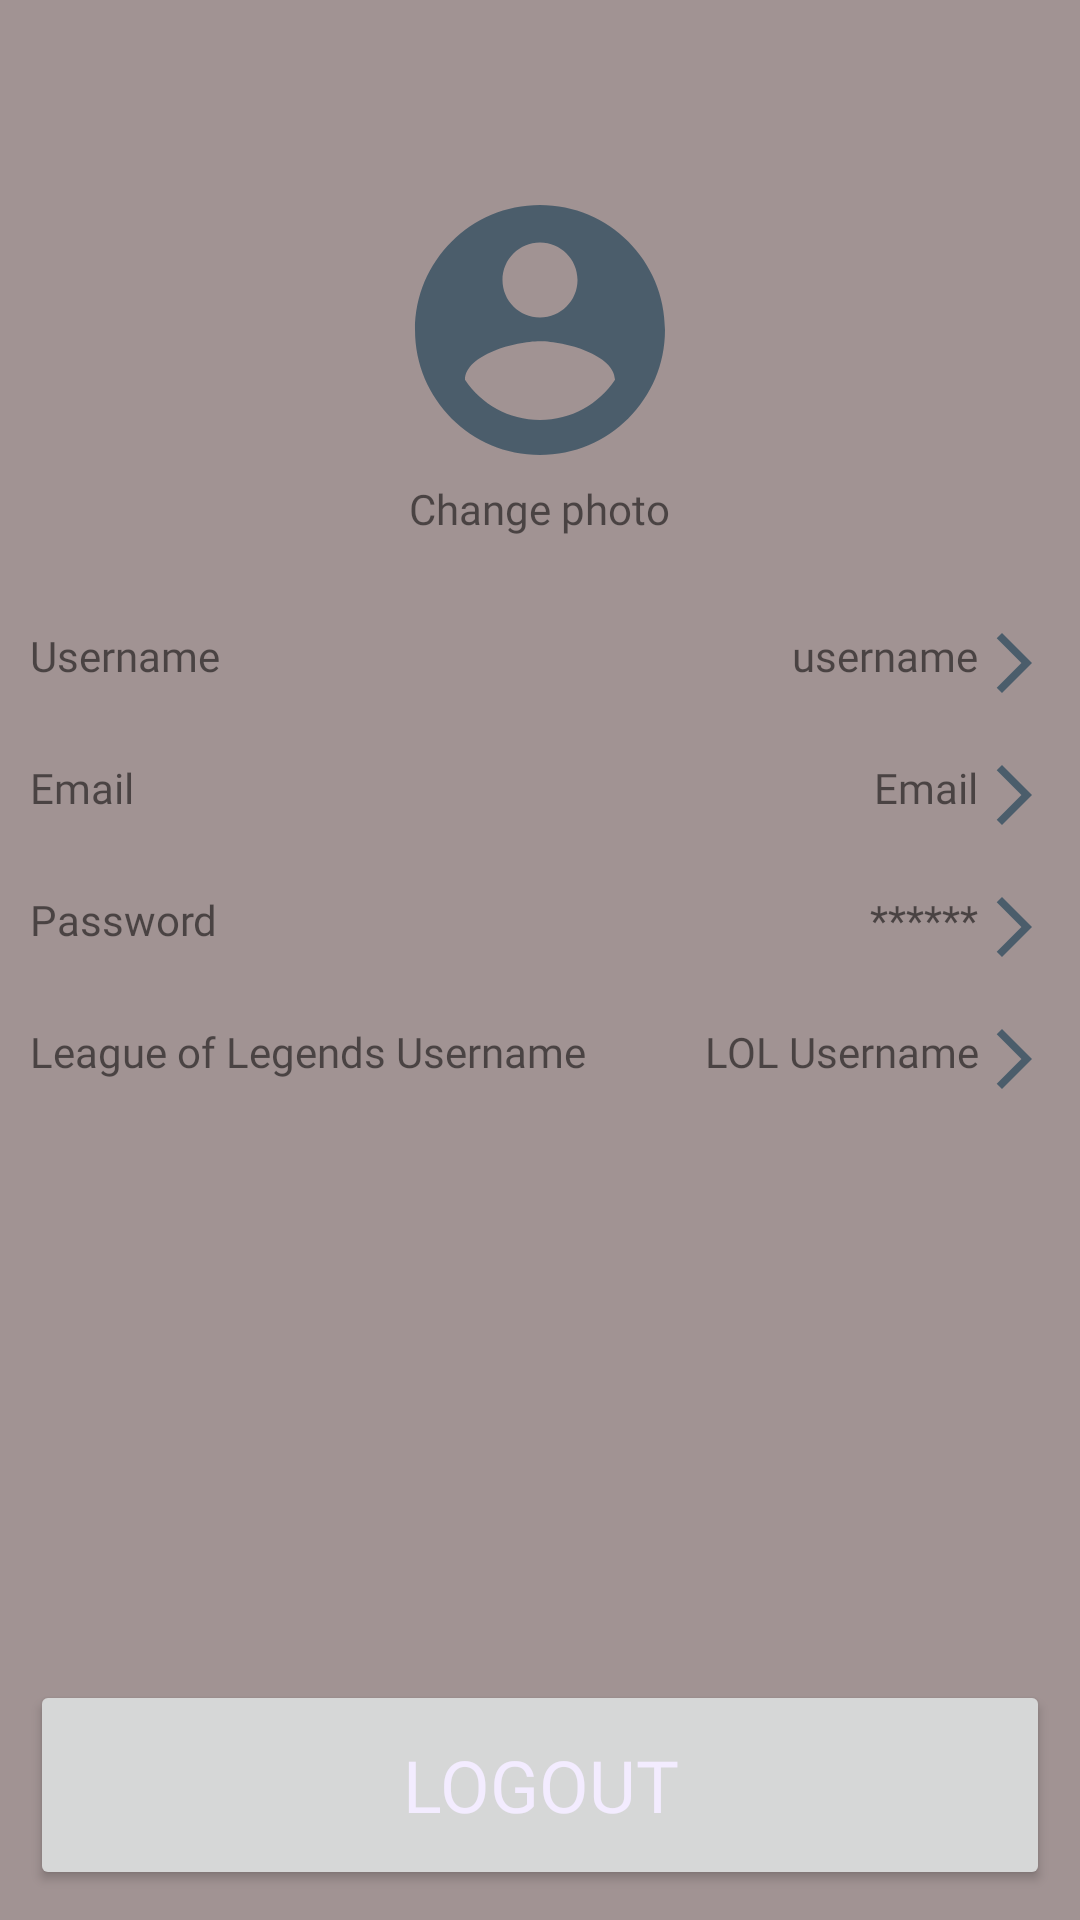

Named icons in this screenshot (1080x1920) and their centers, (x,y):
account circle: (540,330)
